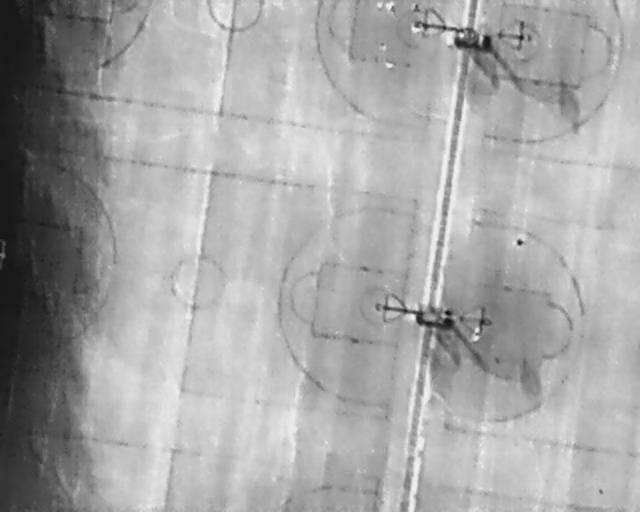Person: (513, 232, 527, 247), (409, 22, 422, 38), (384, 0, 397, 15), (472, 327, 481, 343), (386, 61, 396, 74), (378, 42, 387, 56), (376, 1, 383, 11)
